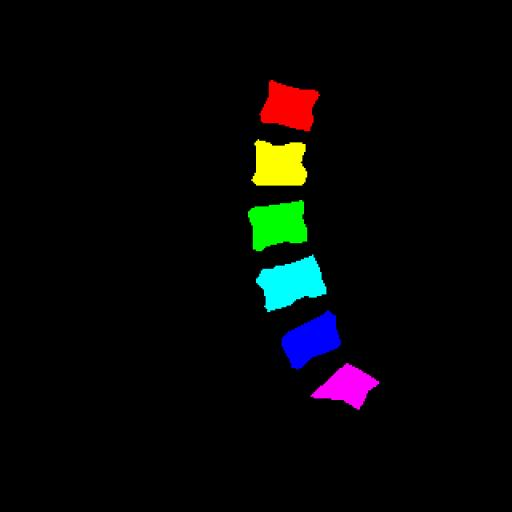L1: (260, 80, 319, 130)
L2: (252, 140, 307, 186)
L3: (248, 200, 307, 251)
L4: (256, 255, 326, 312)
L5: (282, 311, 341, 368)
S1: (311, 363, 379, 410)
